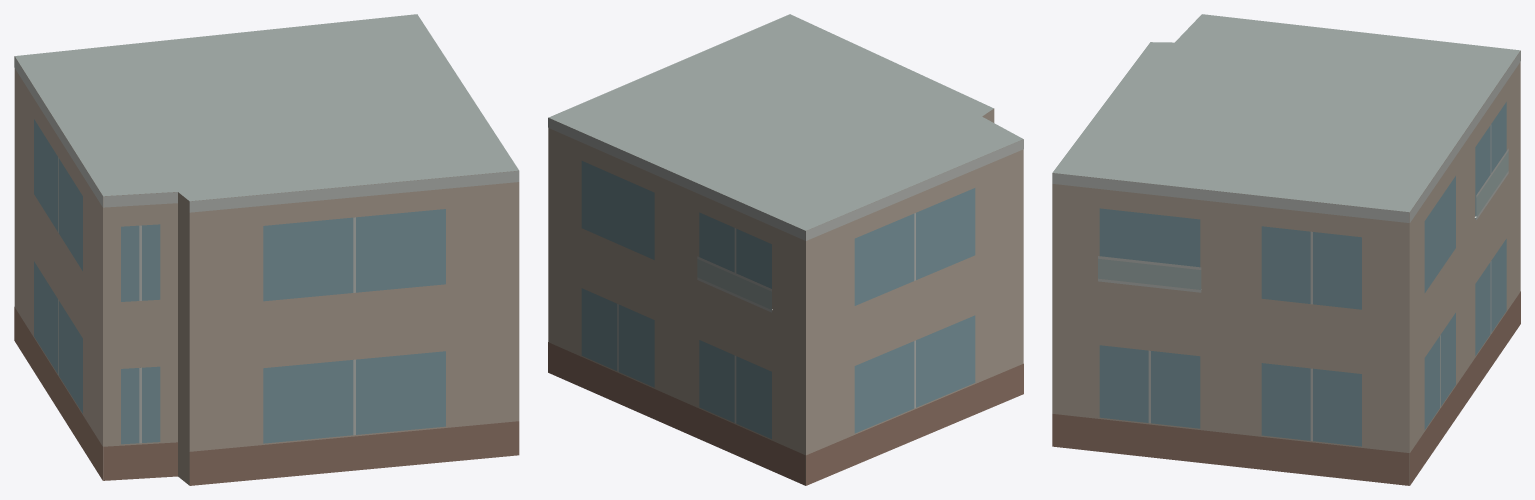
Rendered from survey-upis-32658833.glb.
3 views of the same model, side by side, from view 1: azimuth 30°, elevation 25°; view 2: azimuth 150°, elevation 25°; view 3: azimuth 270°, elevation 25° (orthographic). The views are drawn at different scales.
Visible parts, largest first — view 1: survey-upis-32658833.tmp; view 2: survey-upis-32658833.tmp; view 3: survey-upis-32658833.tmp.
Part boxes in pixels (x1,y1,x2,y2): survey-upis-32658833.tmp: (14, 14, 519, 485); survey-upis-32658833.tmp: (548, 14, 1023, 485); survey-upis-32658833.tmp: (1052, 14, 1520, 485).
Bounding box in the file's own units: 9.49 × 6.1 × 9.47.
